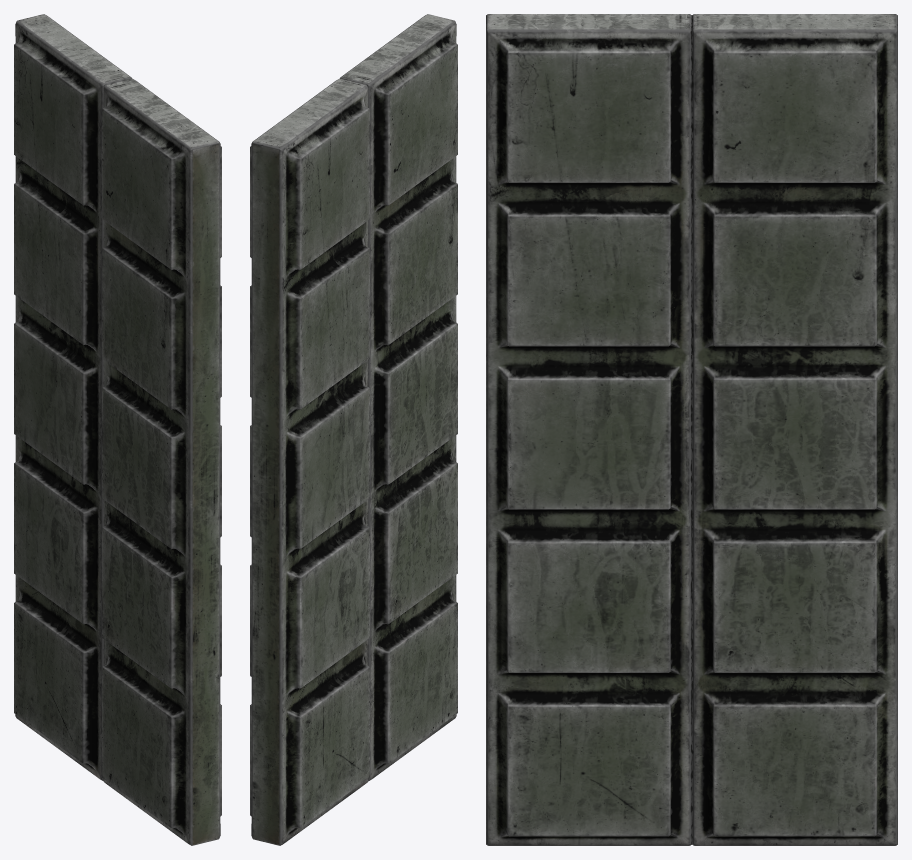
File: SM_MDoorB.fbx
3 renders of one model, left to right at view 1: azimuth 30°, elevation 25°; view 2: azimuth 150°, elevation 25°; view 3: azimuth 270°, elevation 25°, orthographic. The views are drawn at different scales.
Visible parts, largest first — view 1: SM_MDoorB_LOD0; view 2: SM_MDoorB_LOD0; view 3: SM_MDoorB_LOD0.
Boxes of the visible parts, left/top/right/bottom form: SM_MDoorB_LOD0: left=14, top=14, right=221, bottom=845; SM_MDoorB_LOD0: left=250, top=14, right=457, bottom=845; SM_MDoorB_LOD0: left=486, top=14, right=897, bottom=845.
Bounding box in the file's own units: 16.09 × 95.12 × 208.
1 material, 1 textured.
